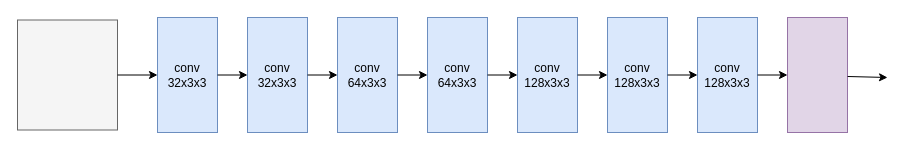
Some shapes in this 913 by 150 pixel diagram are drawn without their labels. The shapes that lost their labels are listed below. From the top down, each one's box as (x1, y1, x2, y2) in pixels, then its label:
(16, 19, 118, 130): image
(786, 16, 848, 132): fc 1000
